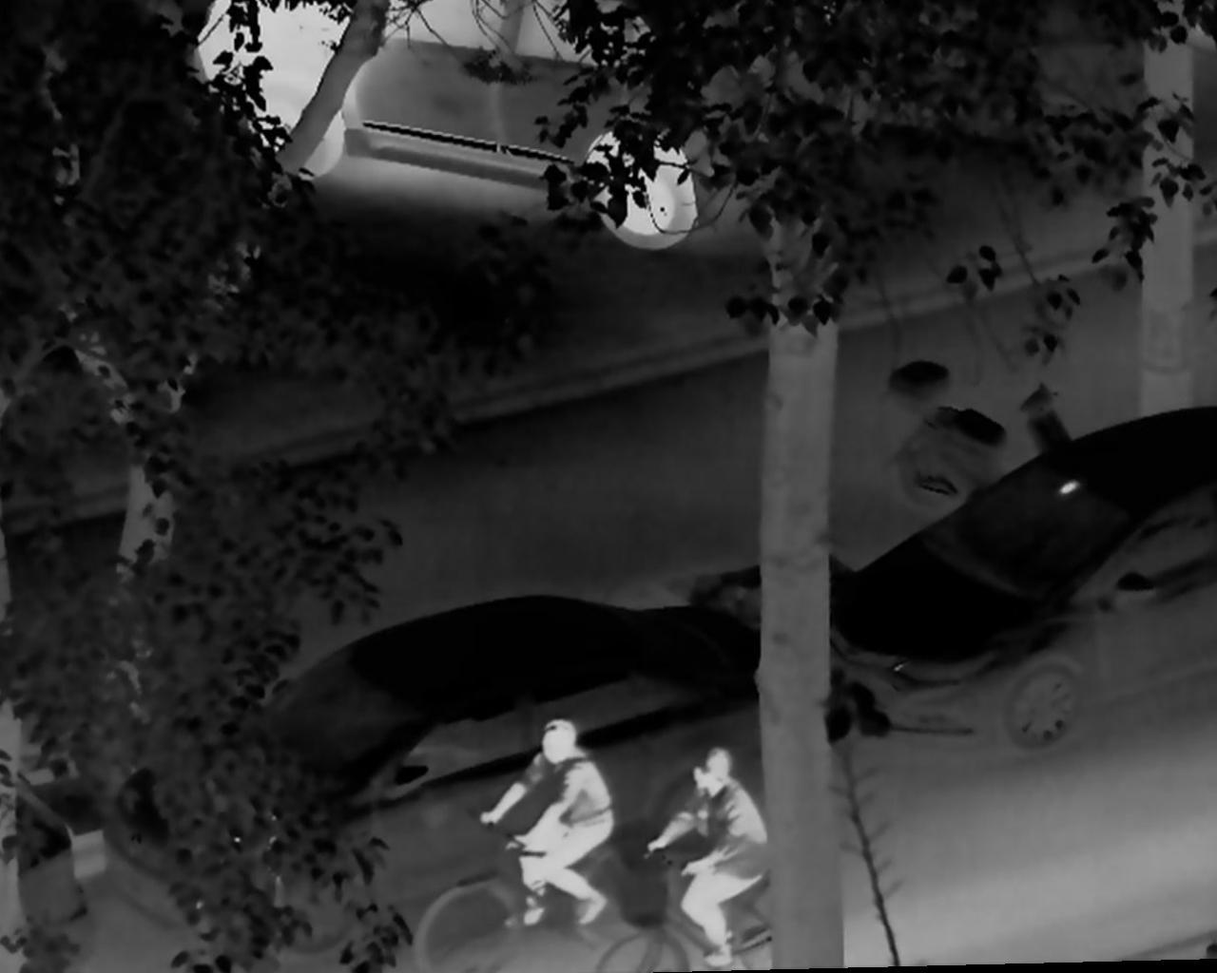person: (476, 710, 612, 938), (644, 747, 774, 966)
